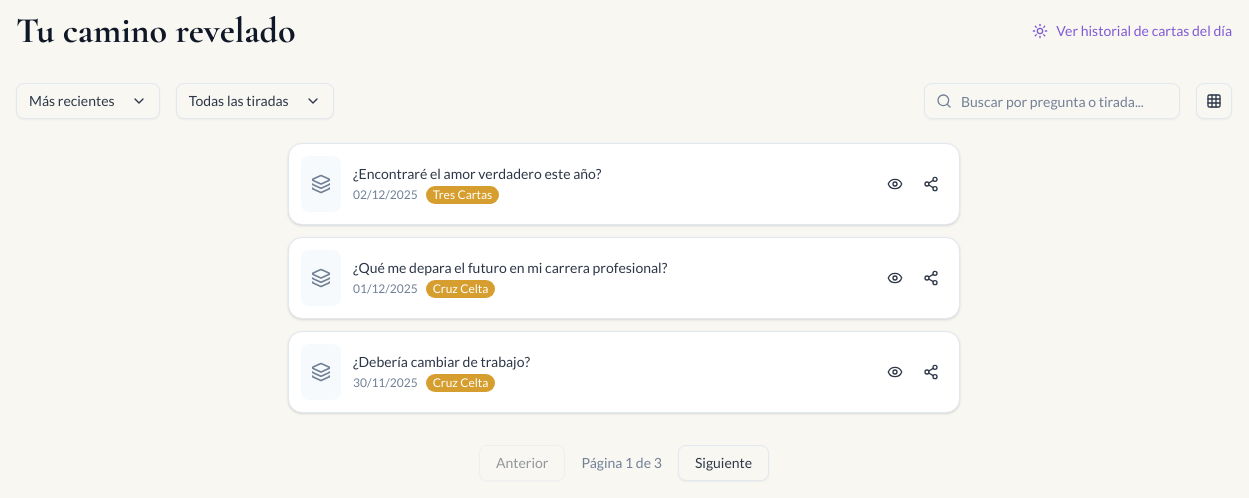
Scenario: HistorialPage › Search Filter › should filter readings locally by search query
In the field with placeholder "Buscar por pregunta o tirada...": (1052, 101) x1=924 y1=83 x2=1180 y2=119, type "amor"
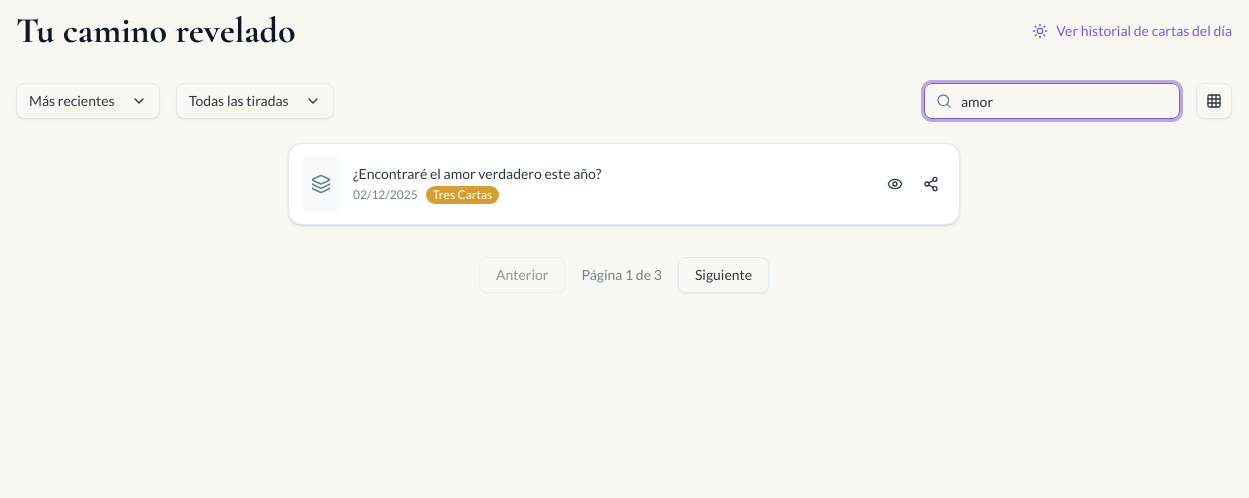
Check: the text "¿Encontraré el amor verdadero este año?" is shown, box x1=353 y1=165 x2=601 y2=182
Check: the number of elements with test id "reading-card" is 1, box x1=288 y1=143 x2=960 y2=225
